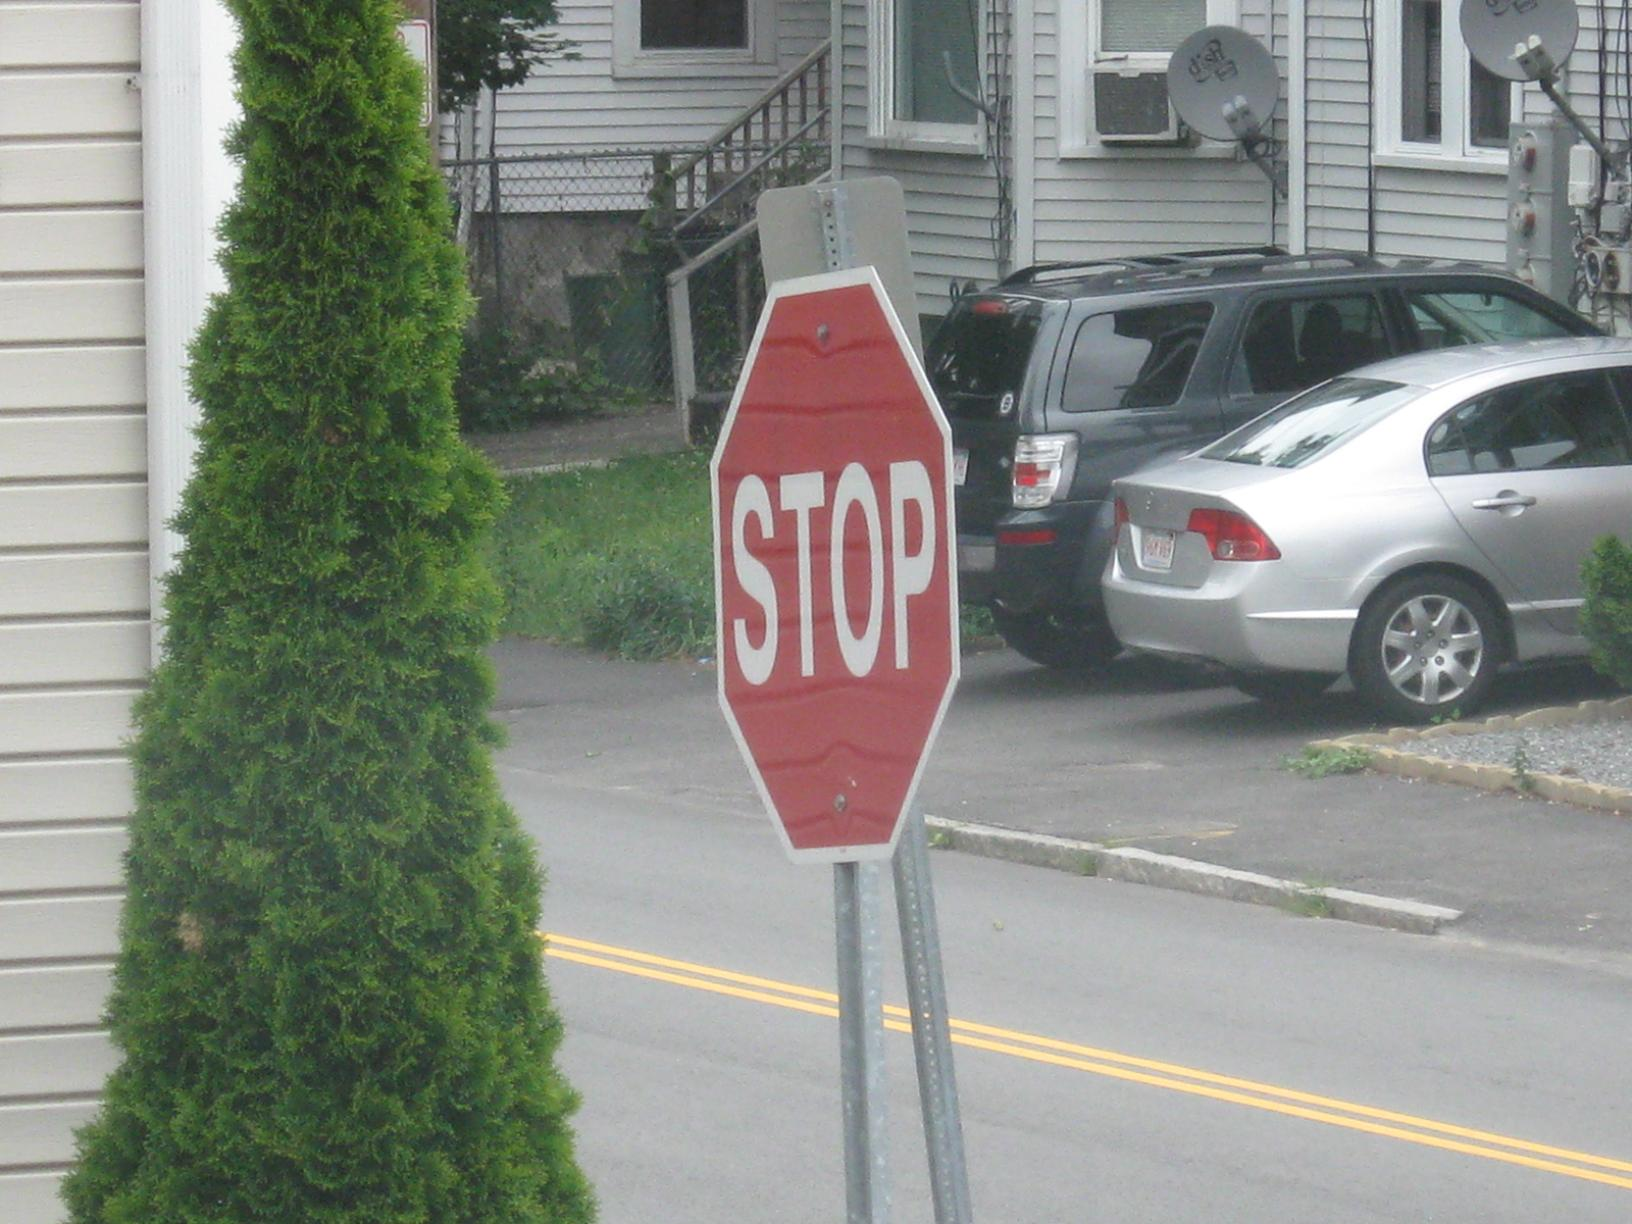car: (939, 244, 1604, 612), (1096, 327, 1624, 705)
stop: (703, 275, 966, 873)
